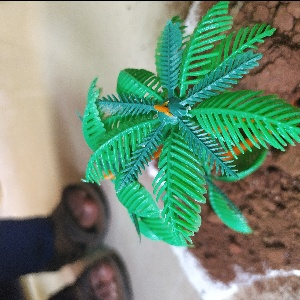plant: (73, 14, 289, 217)
